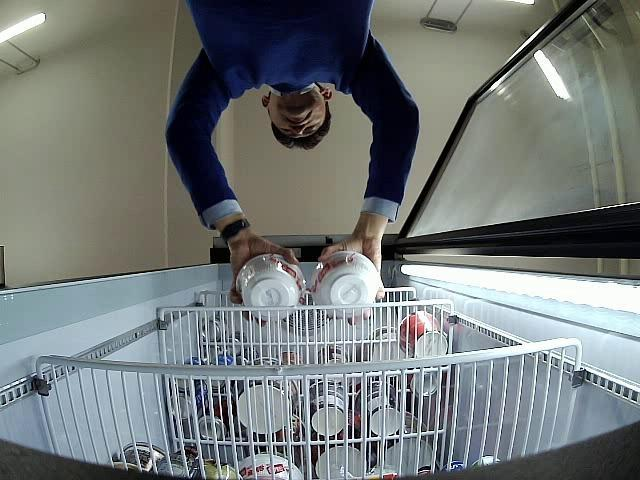09_yukGaeJang: (236, 255, 306, 323), (310, 252, 382, 317)
